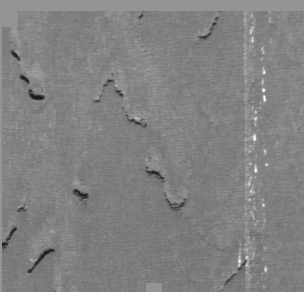oxl: (35, 10, 269, 282)
